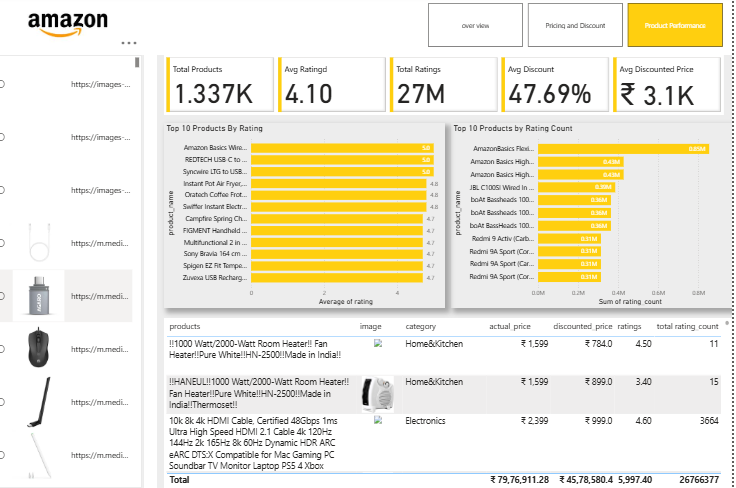

This screenshot's page, from the dashboard's own definition file:
{"tool":"powerbi","page":{"name":"Product Performance","canvas":[1500,1000],"ordinal":2},"visuals":[{"type":"shape","box":[0,119.9,304.9,880.1],"z":0},{"type":"shape","box":[331.3,119.9,1168.7,880.1],"z":1000},{"type":"cardVisual","fields":{"Data":["Count(amazon.product_name)","Avg(amazon.rating)","Sum(amazon.rating_count)","Avg(amazon.discount_percentage)","Avg(amazon.discounted_price)"]},"box":[345.5,119.9,1138.2,122],"z":2000},{"type":"barChart","title":"Top 10 Products By Rating","fields":{"Category":["amazon.product_name"],"Y":["Avg(amazon.rating)"]},"box":[345.5,258.1,571.1,376],"z":3000},{"type":"listSlicer","fields":{"Values":["amazon.img_link"]},"box":[0,119.9,300.8,880.1],"z":4000},{"type":"image","box":[0,0,300.8,119.9],"z":5000},{"type":"barChart","title":"Top 10 Products by Rating Count","fields":{"Category":["amazon.product_name"],"Y":["Sum(amazon.rating_count)"]},"box":[928.9,258.1,571.1,376],"z":6000},{"type":"tableEx","fields":{"Values":["amazon.product_name","amazon.img_link","amazon.category.1","Sum(amazon.actual_price)","Sum(amazon.discounted_price)","Sum(amazon.rating)","Sum(amazon.rating_count)"]},"box":[345.5,654.5,1154.5,345.5],"z":7000},{"type":"pageNavigator","box":[882.1,14.2,599.6,89.4],"z":8000}]}

Visuals, with their boxes on the page's 1500x1000 design canvas (x1, y1, x2, y2). These are canvas units, not pixel positions in the 736x488 screenshot, which may show the page scaled, cropped or inside an application window:
shape: bbox(0, 120, 305, 1000)
shape: bbox(331, 120, 1500, 1000)
cardVisual - Count(amazon.product_name) x Avg(amazon.rating): bbox(346, 120, 1484, 242)
"Top 10 Products By Rating" barChart: bbox(346, 258, 917, 634)
listSlicer - amazon.img_link: bbox(0, 120, 301, 1000)
image: bbox(0, 0, 301, 120)
"Top 10 Products by Rating Count" barChart: bbox(929, 258, 1500, 634)
tableEx - amazon.product_name x amazon.img_link: bbox(346, 654, 1500, 1000)
pageNavigator: bbox(882, 14, 1482, 104)
